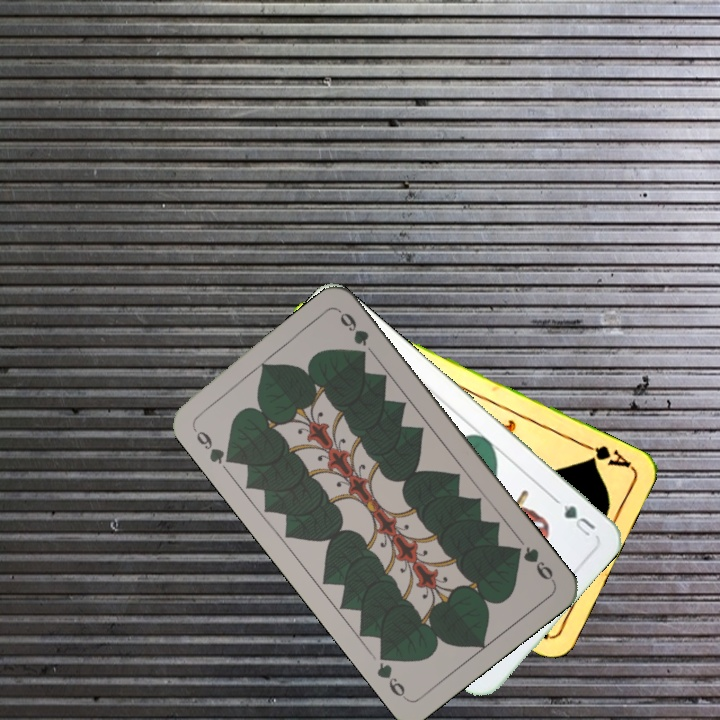G9: (188, 423, 238, 467), (508, 542, 558, 585)
GA: (578, 439, 634, 470)
GU: (559, 500, 598, 539)
